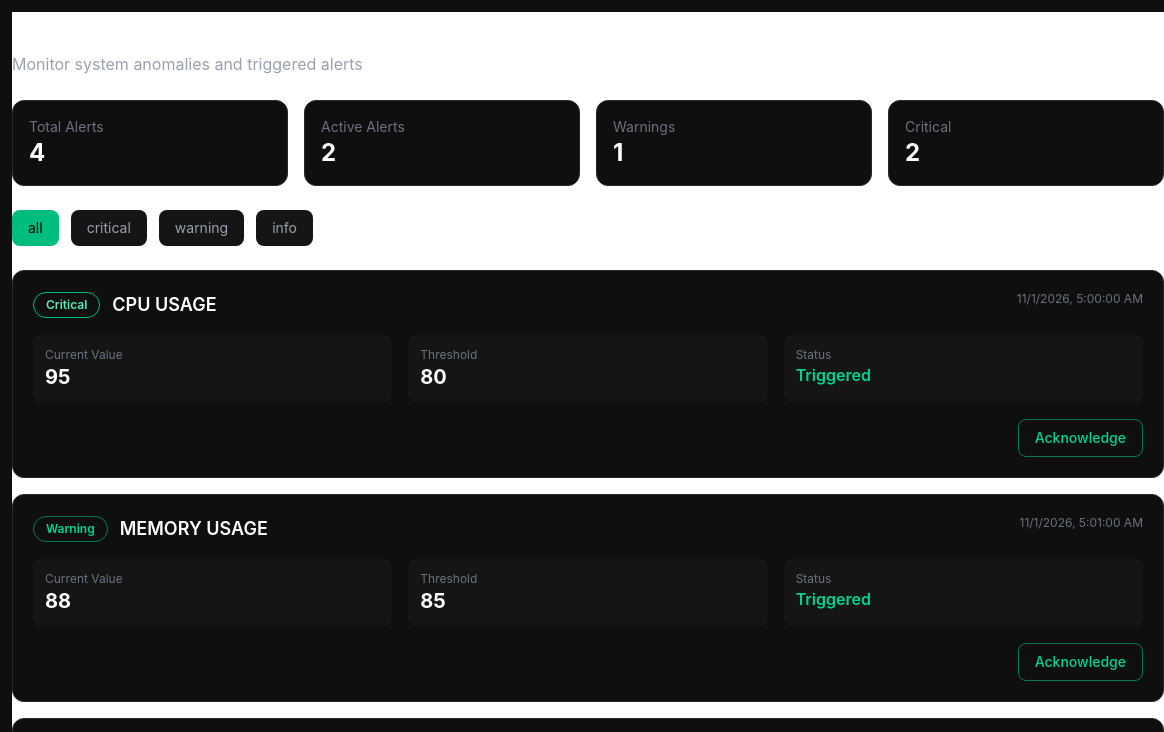
Test case: AlertHistory page › keeps acknowledgement available and displays an error when the request fails
Click the button "Acknowledge" below "11/1/2026, 5:00:00 AM" at (1080, 438), box [1018, 419, 1143, 457]
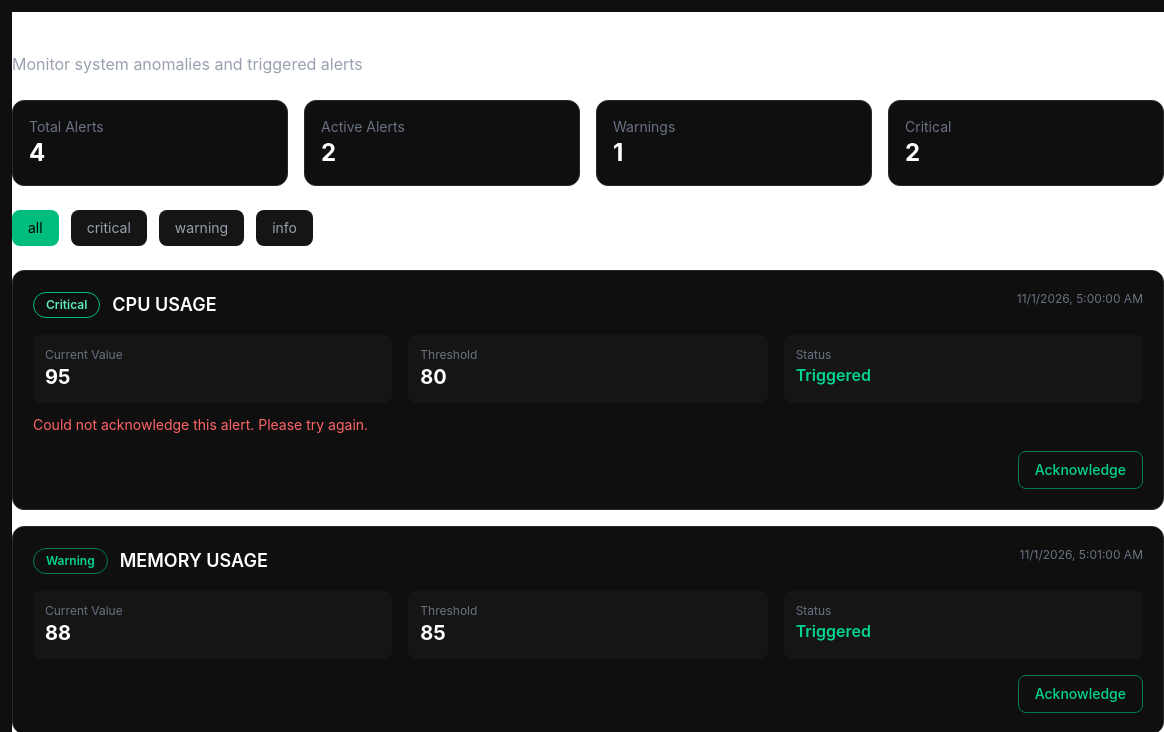
expect the message reads "Could not acknowledge this alert. Please try again.": met, box [33, 416, 368, 433]
